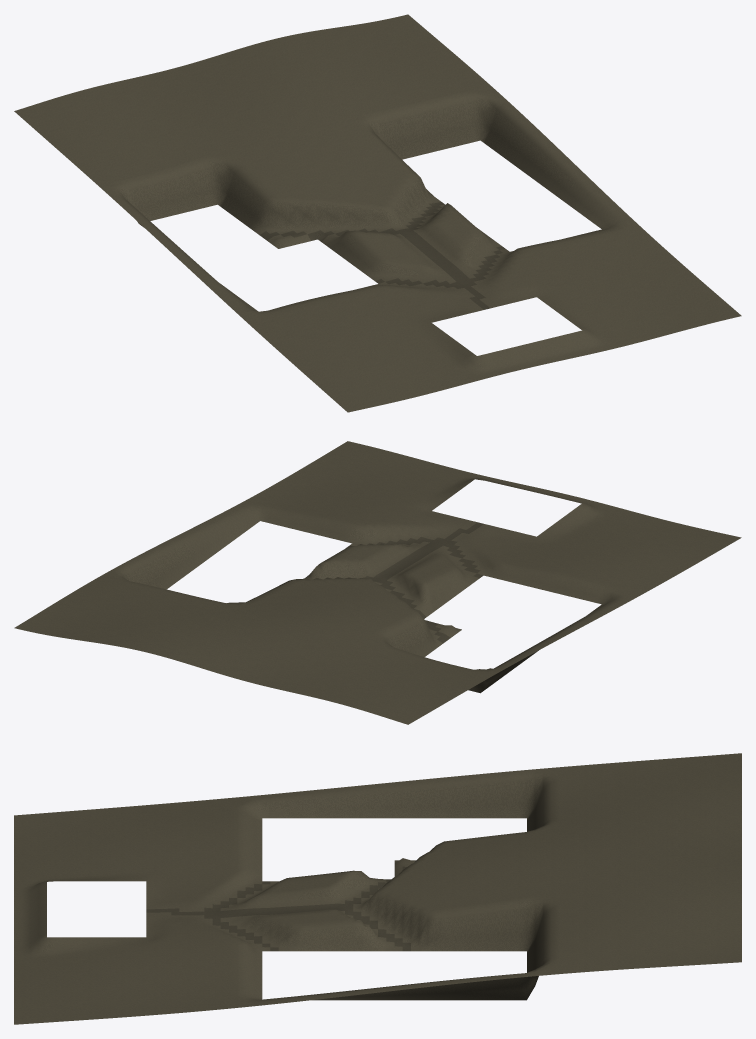
The model's file is level_site_wld_05_terrain.glb.
3 renders of one model, top to bottom at view 1: azimuth 30°, elevation 25°; view 2: azimuth 150°, elevation 25°; view 3: azimuth 270°, elevation 25°, orthographic. The views are drawn at different scales.
Visible parts, largest first — view 1: level_site_wld_05_terrain; view 2: level_site_wld_05_terrain; view 3: level_site_wld_05_terrain.
Part boxes in pixels (x1=…): level_site_wld_05_terrain: x1=14, y1=14, x2=741, y2=412; level_site_wld_05_terrain: x1=14, y1=441, x2=741, y2=724; level_site_wld_05_terrain: x1=14, y1=753, x2=741, y2=1024.
Bounding box in the file's own units: 60 × 9.72 × 88.
2 materials, 2 textured.
